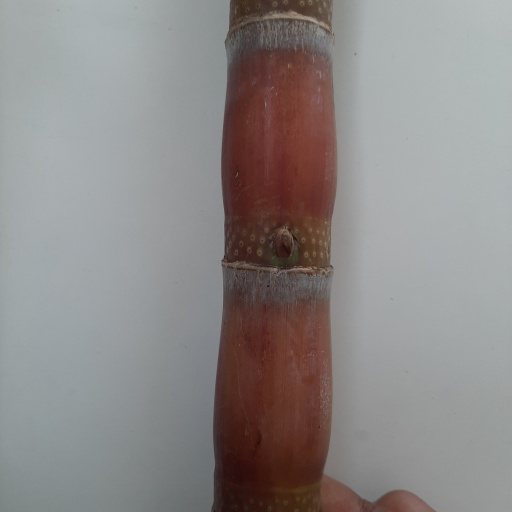Bud: (272, 224, 296, 263)
